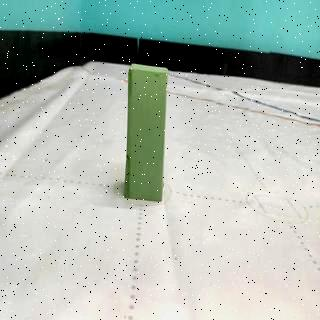greenbox: (124, 62, 170, 204)
